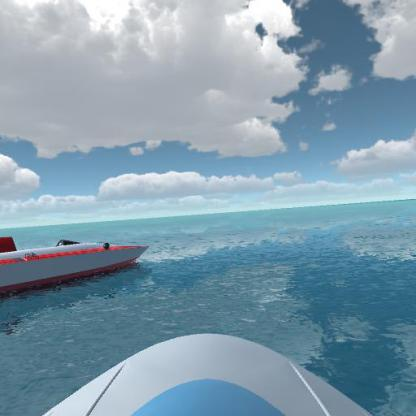usv3: (0, 227, 151, 296)
